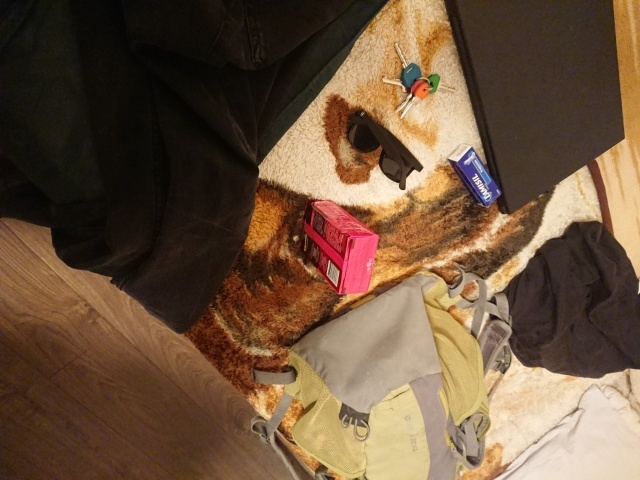Barcaffe Classic Original 225g: (297, 197, 382, 299)
